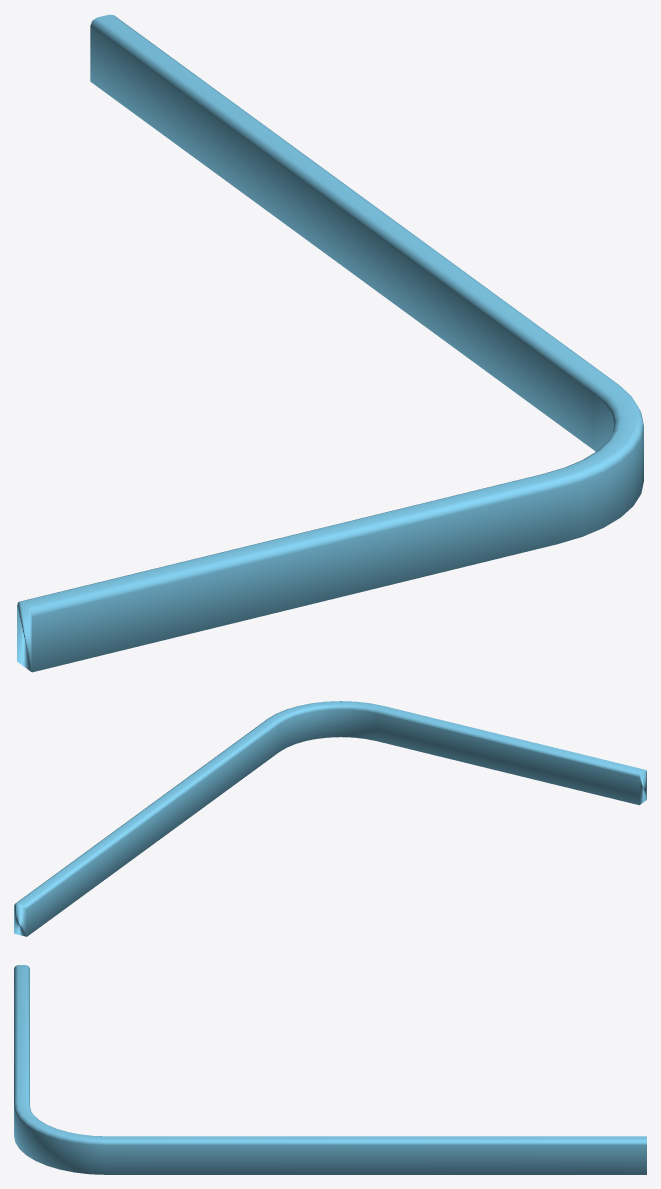
File: Heaven lock.fbx
The picture shows the model from 3 angles, top to bottom: view 1: azimuth 30°, elevation 25°; view 2: azimuth 150°, elevation 25°; view 3: azimuth 270°, elevation 25°; orthographic projection. The views are drawn at different scales.
Parts seen in each view (by area): view 1: Heaven lock; view 2: Heaven lock; view 3: Heaven lock.
Part boxes in pixels (x1,y1,x2,y2): Heaven lock: [17, 14, 643, 672]; Heaven lock: [14, 701, 646, 936]; Heaven lock: [14, 965, 646, 1174].
Size of the model in its own units: 26.03 by 2.3 by 39.46.
